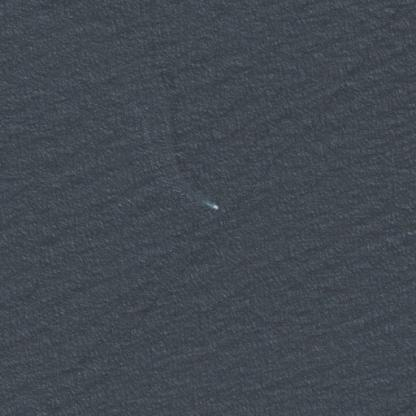ship: (193, 193, 227, 216)
